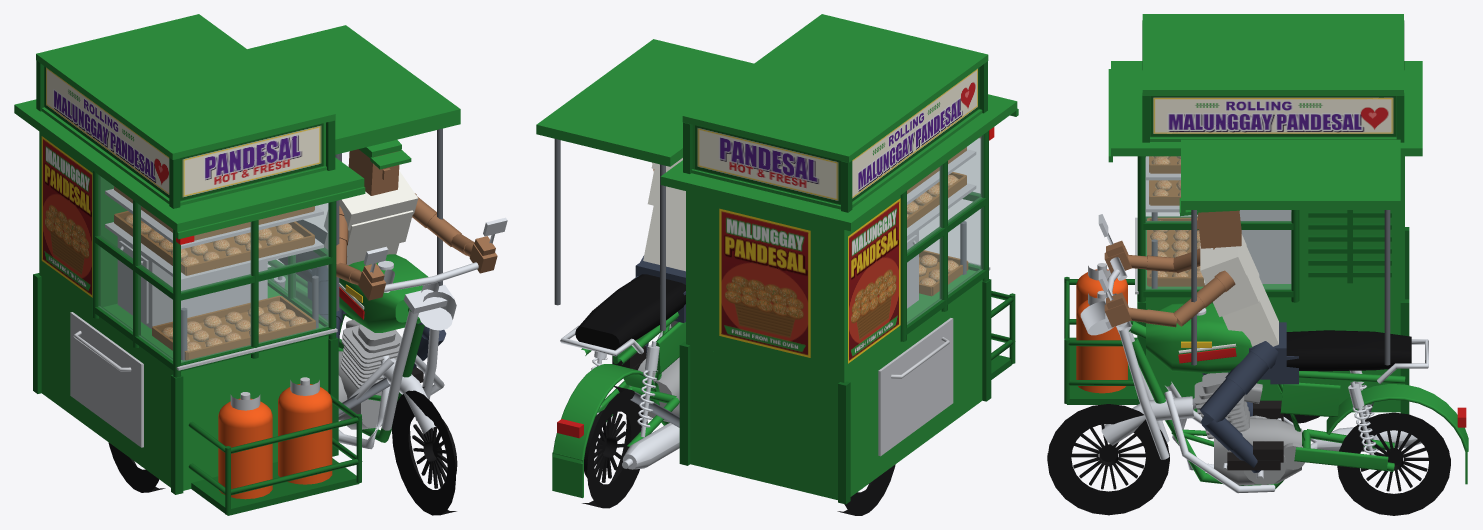
The model's file is traysikel-pandesal.glb.
The picture shows the model from 3 angles, left to right: view 1: azimuth 30°, elevation 25°; view 2: azimuth 150°, elevation 25°; view 3: azimuth 270°, elevation 25°; orthographic projection. The views are drawn at different scales.
Parts seen in each view (by area): view 1: Roof, Body (×2), Glass, Frame, Stainless, Roof_Bike, Lpg, Poster, Trays, Spin (×2), SignEnds, Fork (+13 smaller); view 2: Body (×2), Roof, Poster, Roof_Bike, Frame, Glass, Stainless, SignEnds, Spin (×2), Sign, Saddle, Chrome (+6 smaller); view 3: Roof, Body (×2), Roof_Bike, Spin (×2), Frame, Sign, Glass, Torso, Saddle, Engine, Fork, Chrome (+17 smaller).
Boxes of the visible parts, x1,y1,x2,y2 form: Roof: [14, 14, 365, 239]; Body (×2): [39, 131, 427, 490]; Glass: [98, 175, 328, 362]; Frame: [33, 60, 362, 515]; Stainless: [70, 189, 337, 447]; Roof_Bike: [247, 25, 460, 154]; Lpg: [218, 384, 332, 499]; Poster: [41, 136, 92, 297]; Trays: [114, 186, 315, 360]; Spin (×2): [108, 387, 457, 515]; SignEnds: [180, 123, 323, 200]; Fork: [382, 262, 478, 433]; Body (×2): [552, 191, 982, 499]; Roof: [660, 14, 1018, 231]; Poster: [719, 198, 900, 363]; Roof_Bike: [536, 39, 753, 166]; Frame: [679, 61, 1015, 504]; Glass: [907, 136, 982, 324]; Stainless: [878, 149, 990, 456]; SignEnds: [695, 125, 840, 204]; Spin (×2): [582, 386, 895, 515]; Sign: [852, 67, 979, 201]; Saddle: [575, 274, 685, 350]; Chrome: [560, 324, 679, 469]; Roof: [1108, 14, 1422, 162]; Body (×2): [1129, 156, 1468, 488]; Roof_Bike: [1181, 139, 1400, 215]; Spin (×2): [1047, 404, 1450, 515]; Frame: [1064, 20, 1409, 414]; Sign: [1150, 96, 1396, 136]; Glass: [1145, 156, 1291, 289]; Torso: [1200, 234, 1278, 346]; Saddle: [1286, 330, 1411, 371]; Engine: [1194, 372, 1305, 485]; Fork: [1080, 257, 1194, 459]; Chrome: [1164, 308, 1428, 493].
Bounding box in the file's own units: 1.63 × 1.93 × 1.92.
24 materials, 4 textured.
